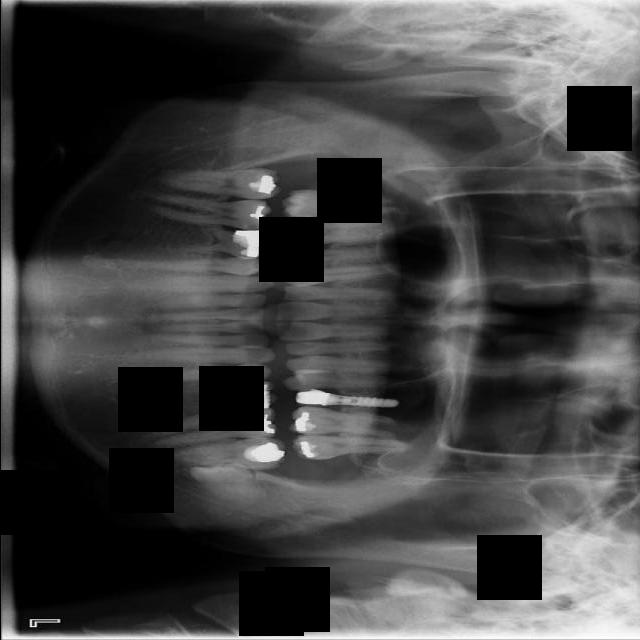52: (221, 194, 272, 234), (276, 214, 328, 251), (230, 167, 282, 201), (233, 405, 278, 442), (287, 405, 339, 437), (234, 436, 284, 469), (235, 378, 279, 414), (289, 432, 339, 462), (228, 229, 267, 259), (293, 388, 329, 407), (245, 225, 262, 231)
73: (44, 592, 57, 600)
BioHorizons Implant: (290, 434, 409, 460)
Biomet 3i Implant: (183, 442, 274, 518)
Blue Sky Bio Implant: (180, 432, 285, 471)
Caries: (280, 189, 395, 219)
Implant: (160, 167, 282, 203)
